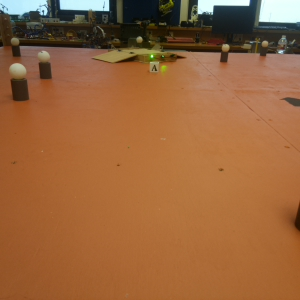obstacle: (9, 69, 30, 103), (35, 50, 56, 82), (9, 36, 24, 58), (257, 40, 271, 57), (218, 43, 231, 60)
side: (141, 53, 180, 63)
slope: (103, 52, 135, 61)
